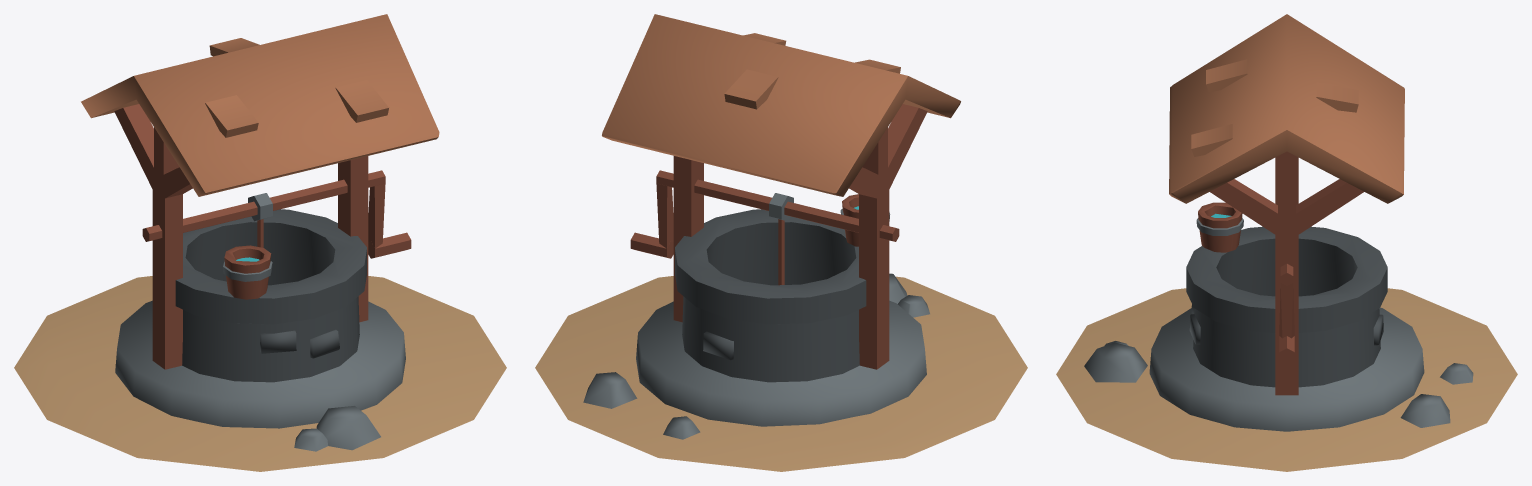
Rendered from fountain.glb.
3 renders of one model, left to right at view 1: azimuth 30°, elevation 25°; view 2: azimuth 150°, elevation 25°; view 3: azimuth 270°, elevation 25°, orthographic. The views are drawn at different scales.
Visible parts, largest first — view 1: well; view 2: well; view 3: well.
Boxes of the visible parts, x1=… form: well: x1=14, y1=14, x2=506, y2=471; well: x1=535, y1=14, x2=1027, y2=471; well: x1=1056, y1=14, x2=1517, y2=471.
Size of the model in its own units: 1.02 by 0.7357 by 1.02.
